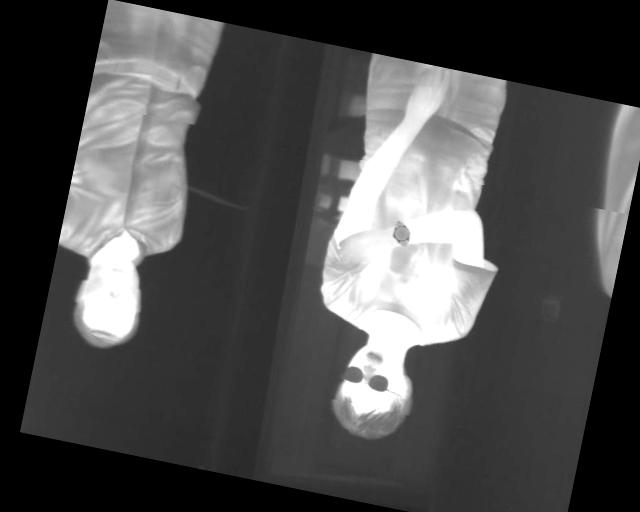face: (323, 332, 423, 448), (64, 245, 151, 356)
